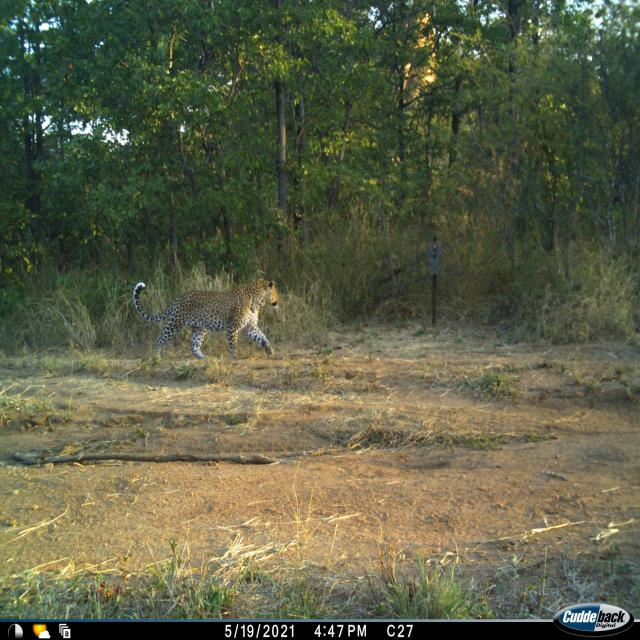Leopard: (135, 272, 276, 368)
